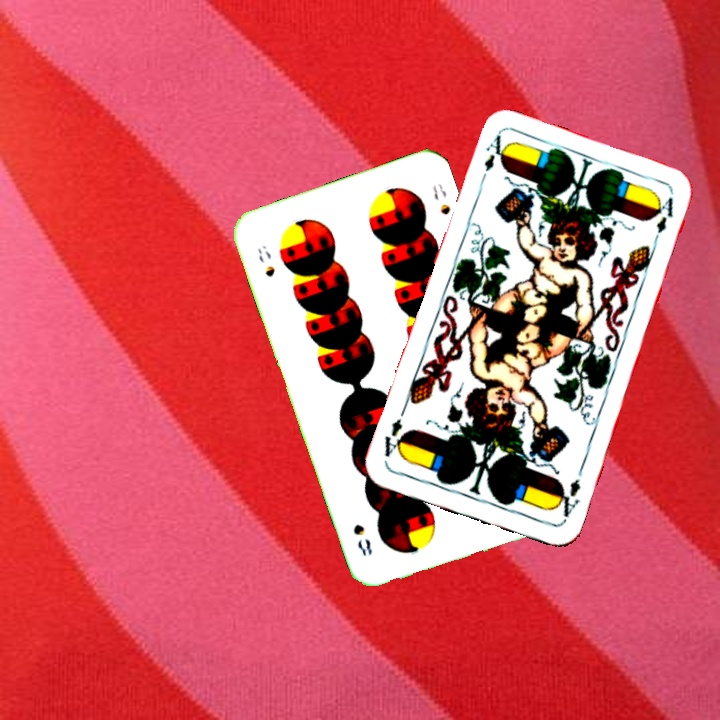EA: (476, 131, 510, 188), (551, 474, 583, 524)
S8: (254, 241, 278, 280)
